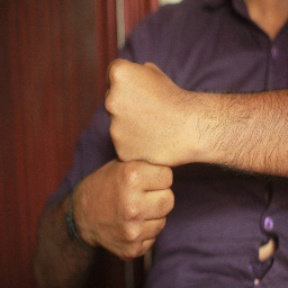G: (79, 54, 184, 264)
